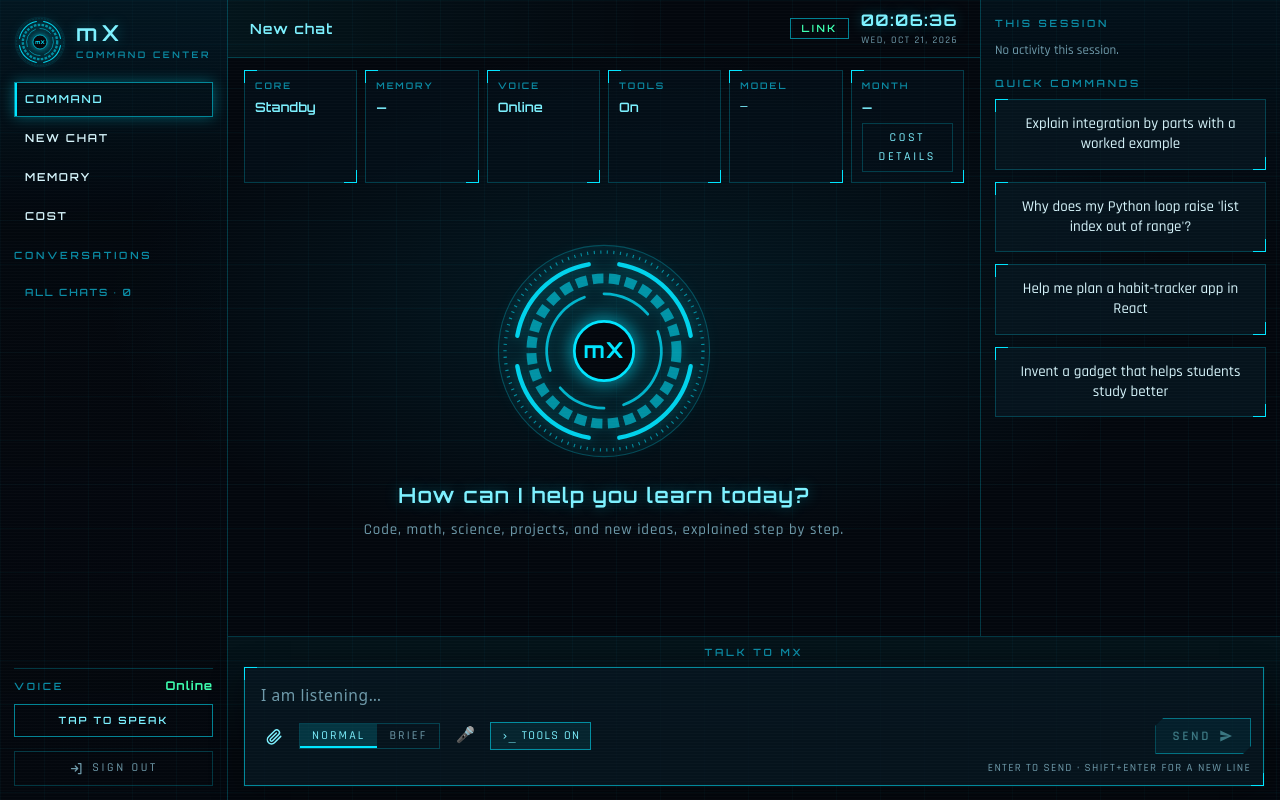
Test: chatting › recovers after stopping a first turn
The image size is (1280, 800).
Type "One" into the text box named "Message".
click(754, 695); type("One")  # box [257,678,1251,712]
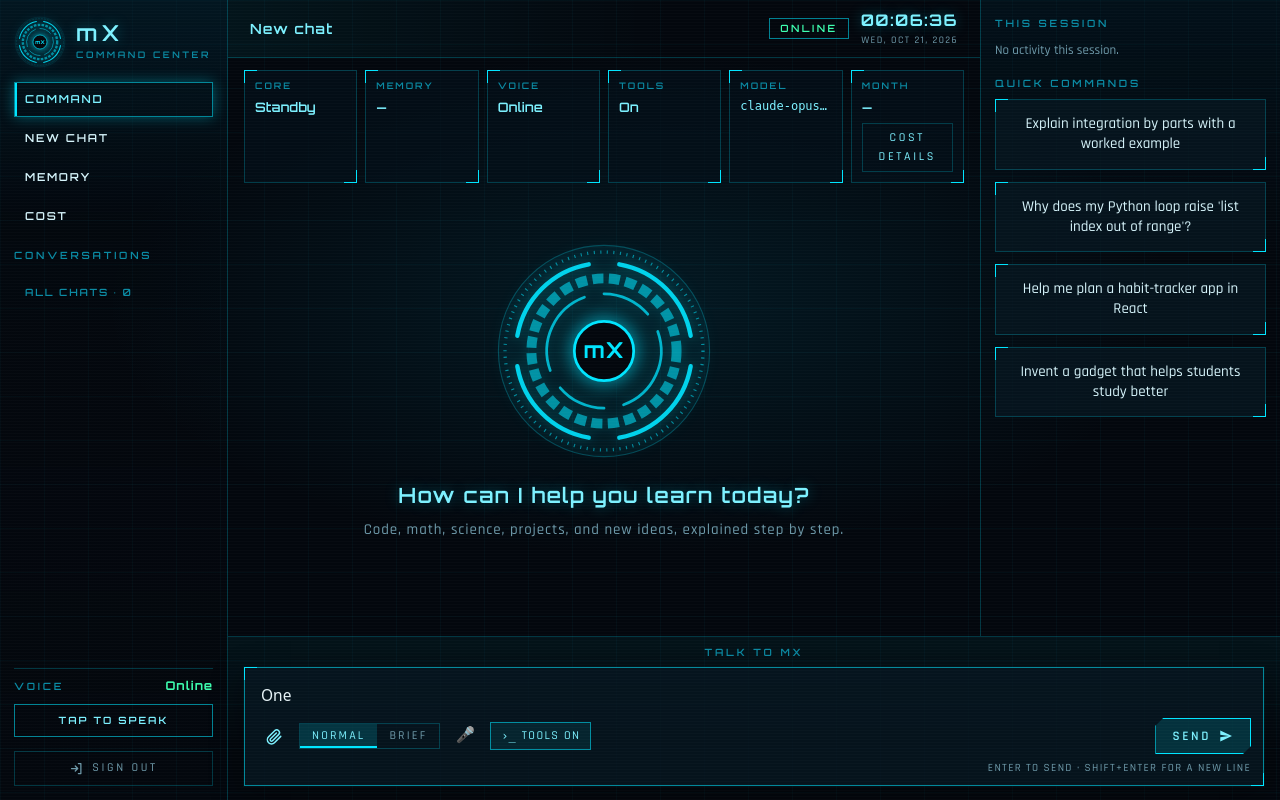
Press Enter in the text box named "Message", box [257,678,1251,712]
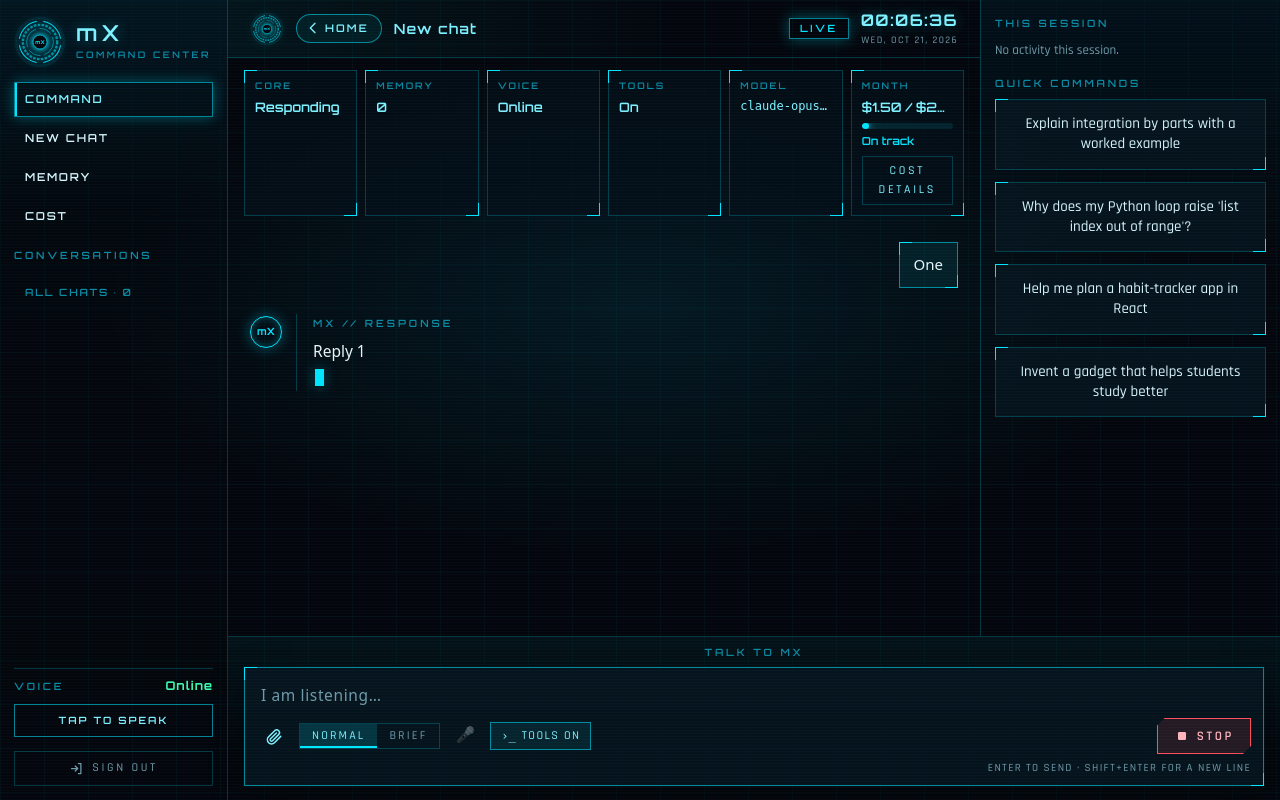
Result: the text "Reply 1" is shown at [313,340,366,362]
Click the button with aria-label "Stop generating".
click(1204, 736)  # box [1157,718,1251,754]
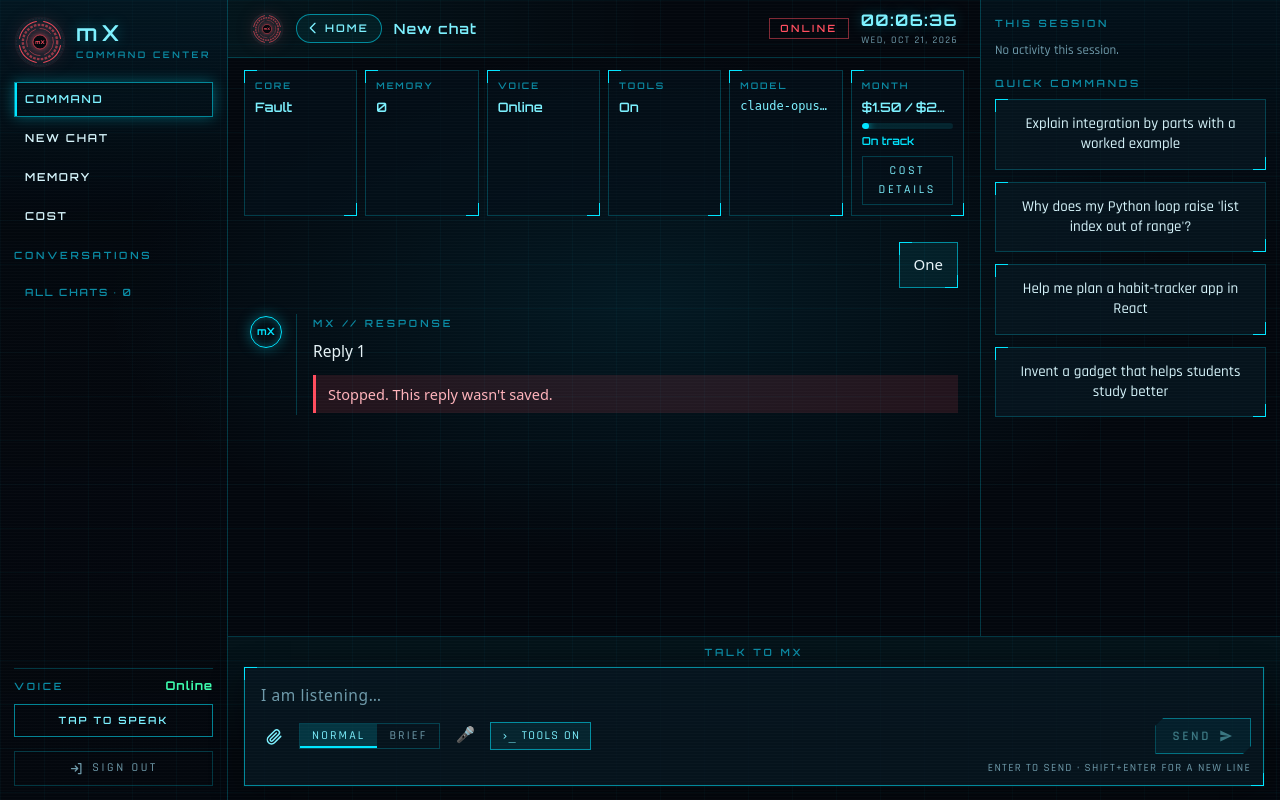
Result: the text "Stopped. This reply wasn't saved." is shown at [313,375,958,413]
Type "Two" into the text box named "Message".
click(754, 695); type("Two")  # box [257,678,1251,712]
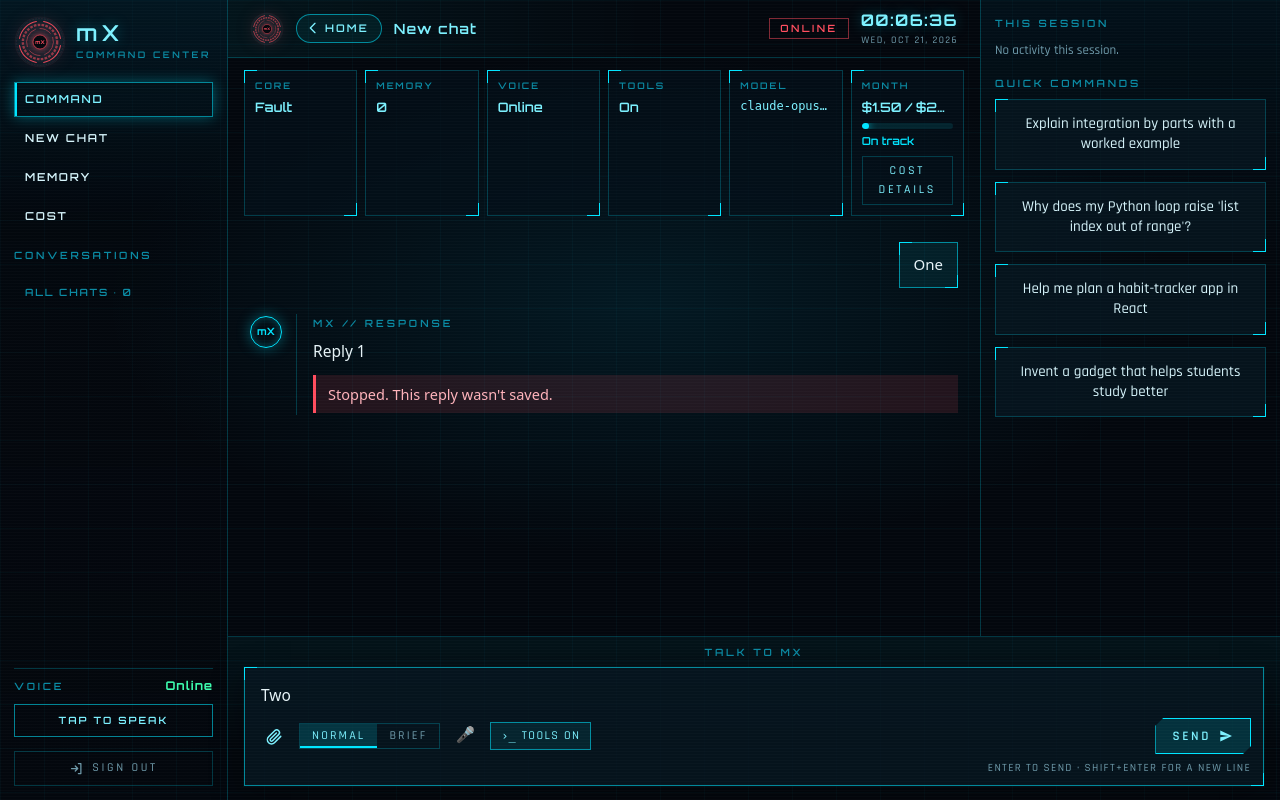
Press Enter in the text box named "Message", box [257,678,1251,712]
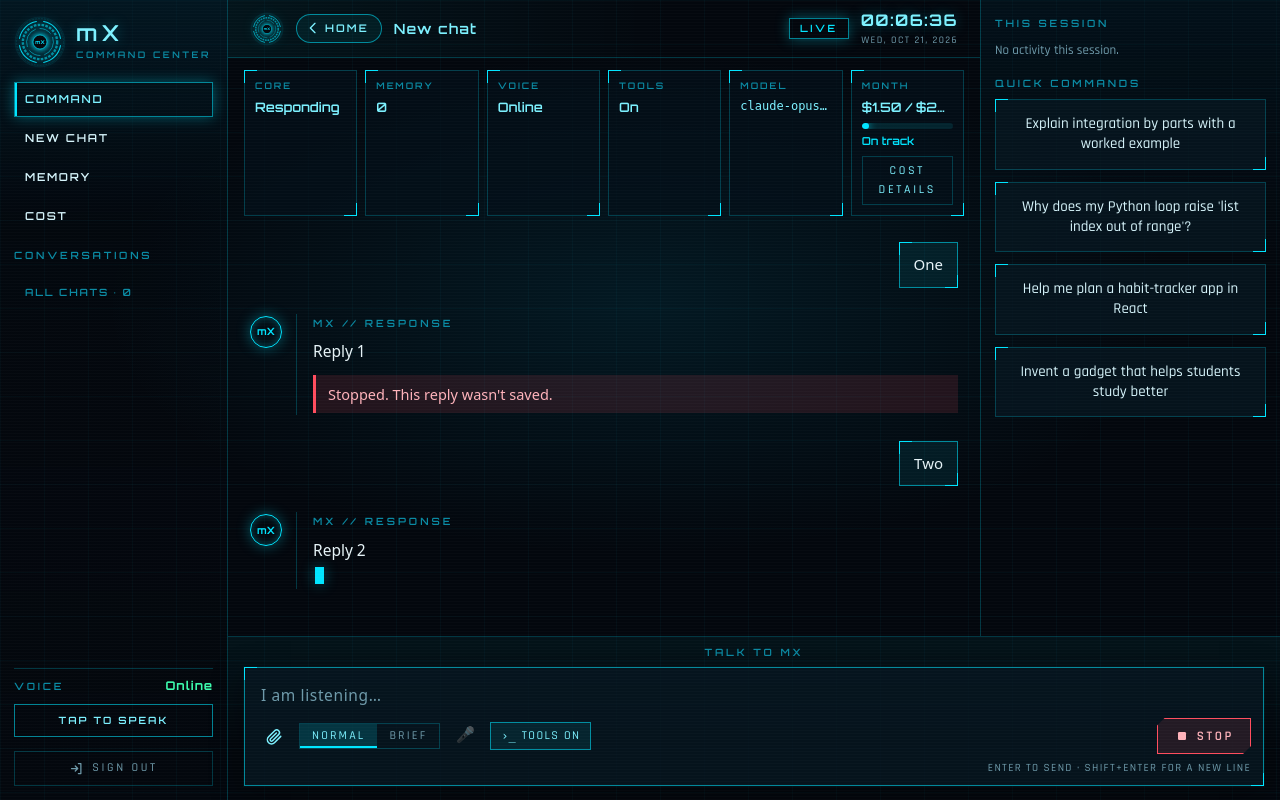
Result: the text "Reply 2" is shown at [313,539,366,561]
